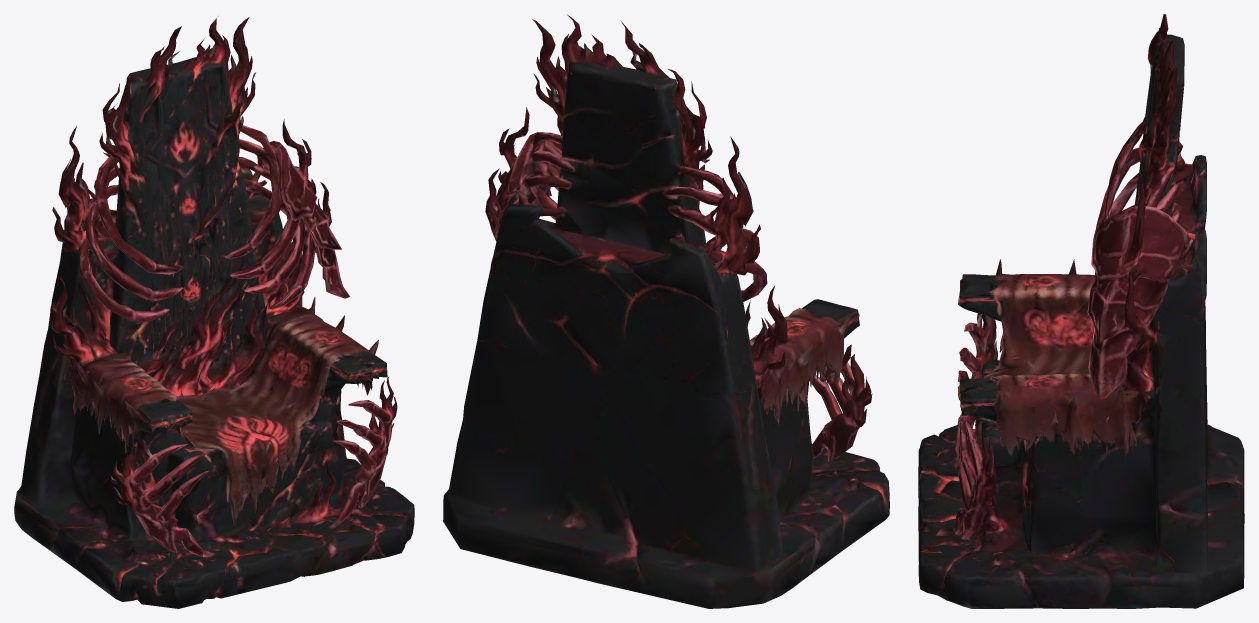
Rendered from chair.glb.
3 views of the same model, side by side, from view 1: azimuth 30°, elevation 25°; view 2: azimuth 150°, elevation 25°; view 3: azimuth 270°, elevation 25° (orthographic). The views are drawn at different scales.
Bounding box in the file's own units: 1.24 × 1.9 × 1.08.
Materials: 1 (1 with a texture image).
